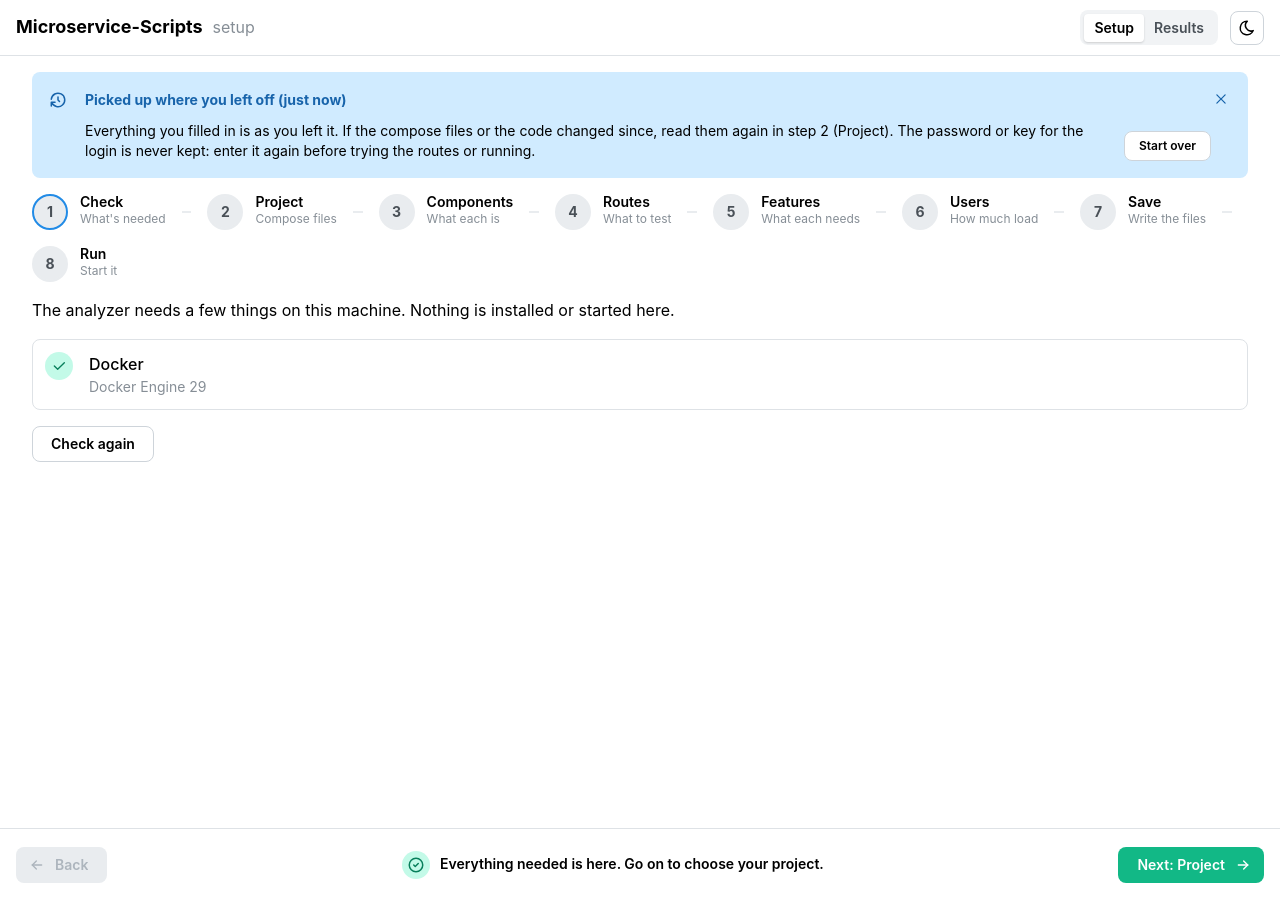
Scenario: after a reload › picks up where the user left off, and can start over
This screenshot has width=1280, height=900.
Expected: the text "Picked up where you left off (just now)" is shown, [85,89,347,111]
Expected: the text "The password or key for the login is never kept" is shown, [85,122,1083,159]
Click the button "Start over". click: (1168, 146)
box: [1124,131,1211,161]
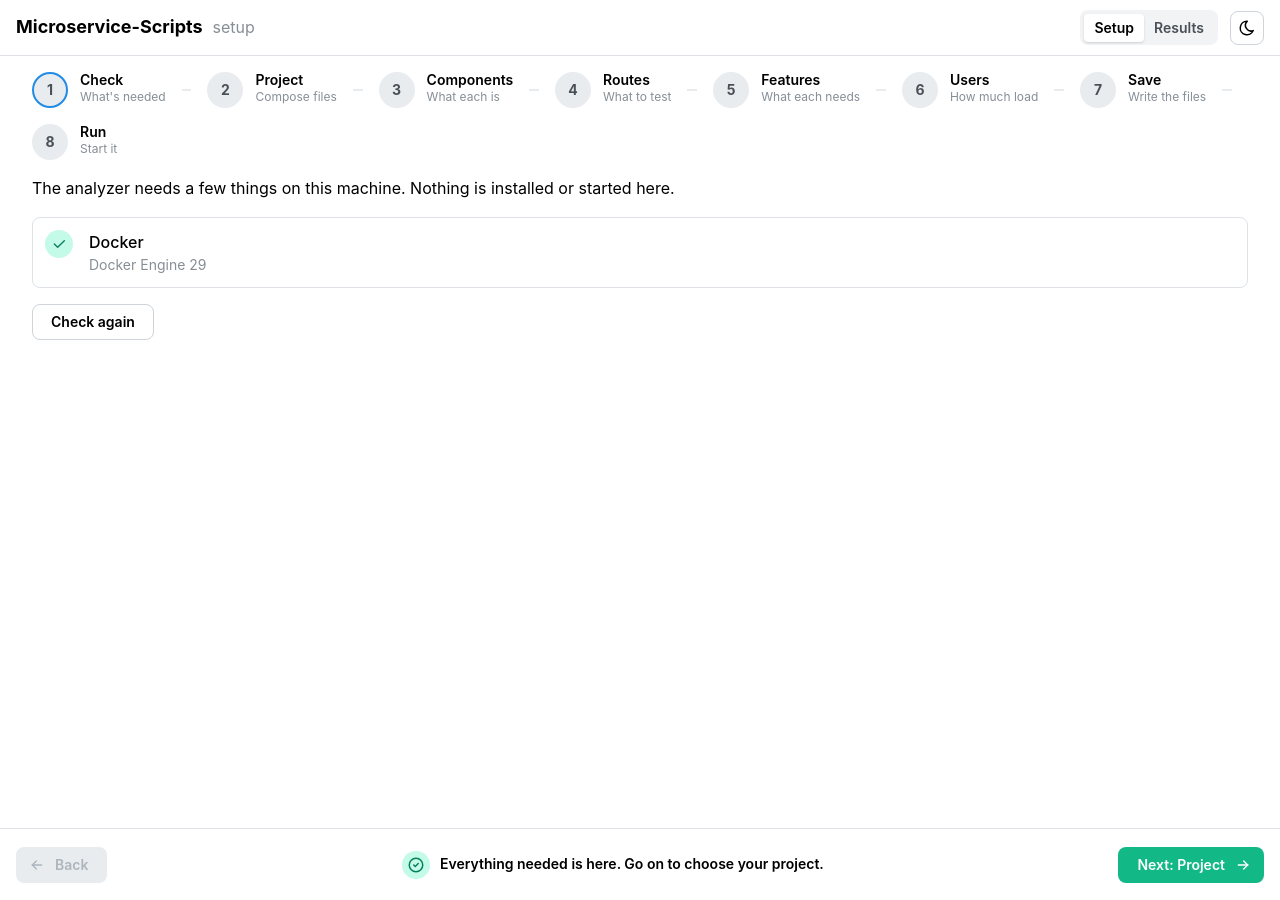
Expected: the text "Picked up where you left off" is gone
